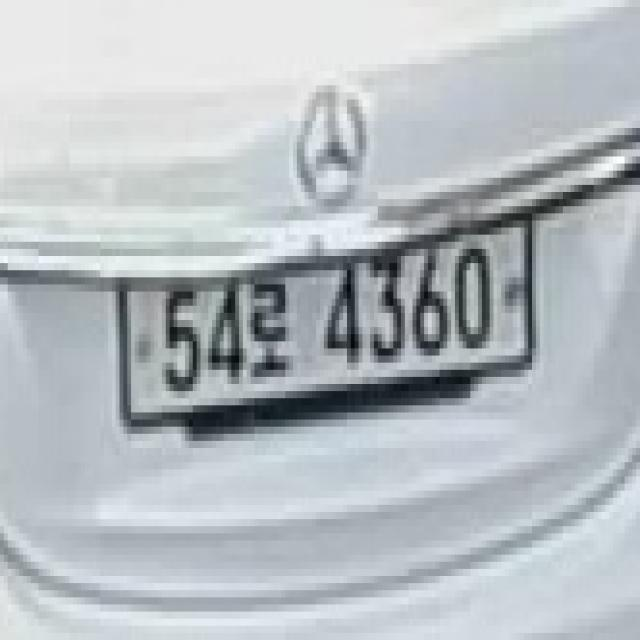0: (451, 206, 501, 370)
3: (366, 220, 409, 384)
4: (320, 235, 370, 384), (208, 249, 247, 412)
5: (162, 249, 200, 412)
6: (409, 220, 451, 398)
license_plate: (112, 206, 540, 434)
lo: (247, 270, 293, 377)
